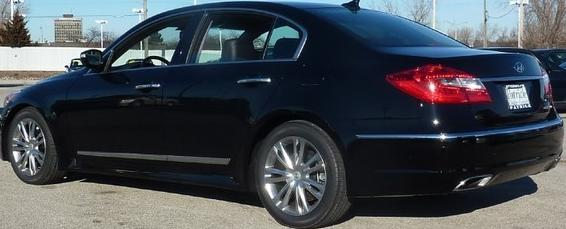back_view: (385, 47, 566, 194)
backlight: (382, 57, 496, 111)
side_glass: (86, 9, 310, 76)
